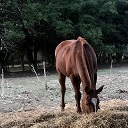caballo: (45, 33, 104, 117)
